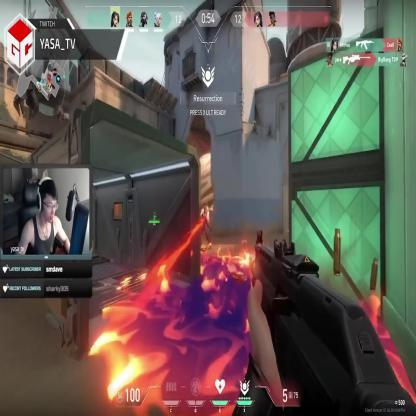enemy: (200, 204, 212, 247)
enemy_head: (202, 204, 206, 212)
